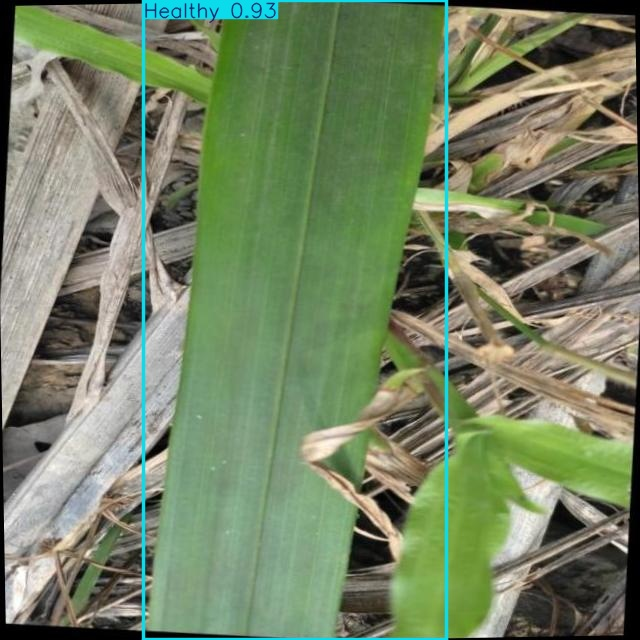Healthy: (144, 0, 447, 640)
